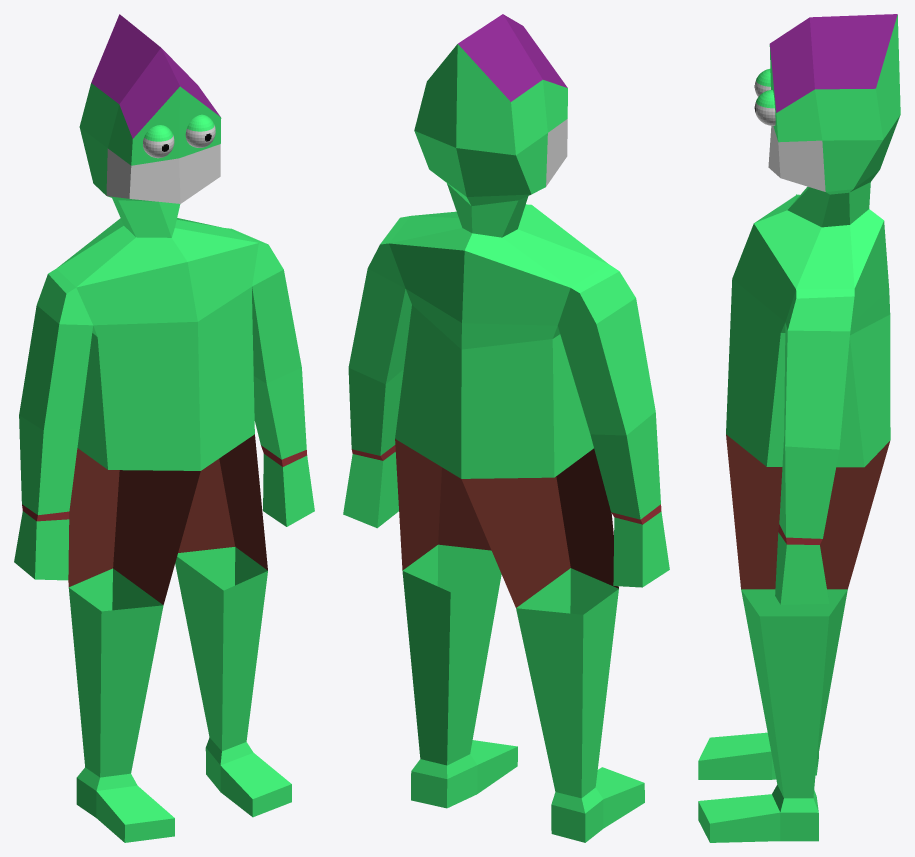
File: mascotte.fbx
3 views of the same model, side by side, from view 1: azimuth 30°, elevation 25°; view 2: azimuth 150°, elevation 25°; view 3: azimuth 270°, elevation 25° (orthographic). The views are drawn at different scales.
Parts seen in each view (by area): view 1: Cube; view 2: Cube; view 3: Cube.
Part boxes in pixels (x1=…): Cube: x1=14, y1=14, x2=314, y2=842; Cube: x1=343, y1=14, x2=669, y2=842; Cube: x1=698, y1=14, x2=900, y2=842.
Size of the model in its own units: 301 by 178 by 764.
